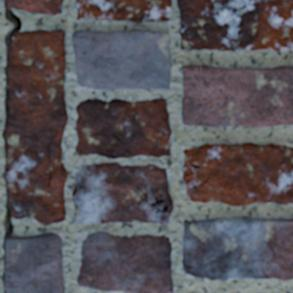brick: (6, 30, 67, 224), (183, 216, 292, 279), (183, 143, 292, 205), (183, 65, 292, 126), (73, 163, 172, 224), (73, 29, 169, 89), (178, 0, 292, 50), (78, 232, 172, 292), (76, 99, 170, 157), (5, 233, 63, 292), (76, 0, 170, 21), (7, 0, 62, 14)
crack: (0, 0, 23, 292), (136, 185, 173, 214), (104, 154, 115, 158)
